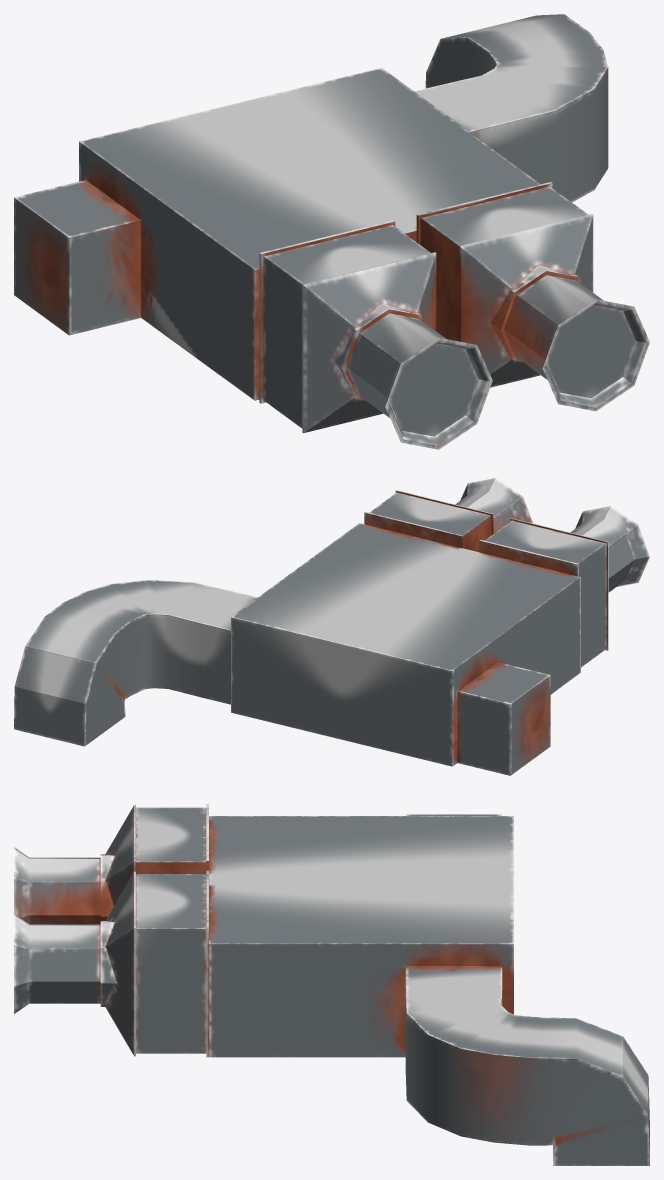
The model's file is Ventilation system.fbx.
3 views of the same model, one above another, from view 1: azimuth 30°, elevation 25°; view 2: azimuth 150°, elevation 25°; view 3: azimuth 270°, elevation 25° (orthographic). The views are drawn at different scales.
Parts seen in each view (by area): view 1: Cube.011; view 2: Cube.011; view 3: Cube.011.
Part boxes in pixels (x1=…): Cube.011: x1=14, y1=14, x2=649, y2=449; Cube.011: x1=14, y1=478, x2=649, y2=775; Cube.011: x1=14, y1=804, x2=649, y2=1165.
Size of the model in its own units: 769 by 205 by 824.
